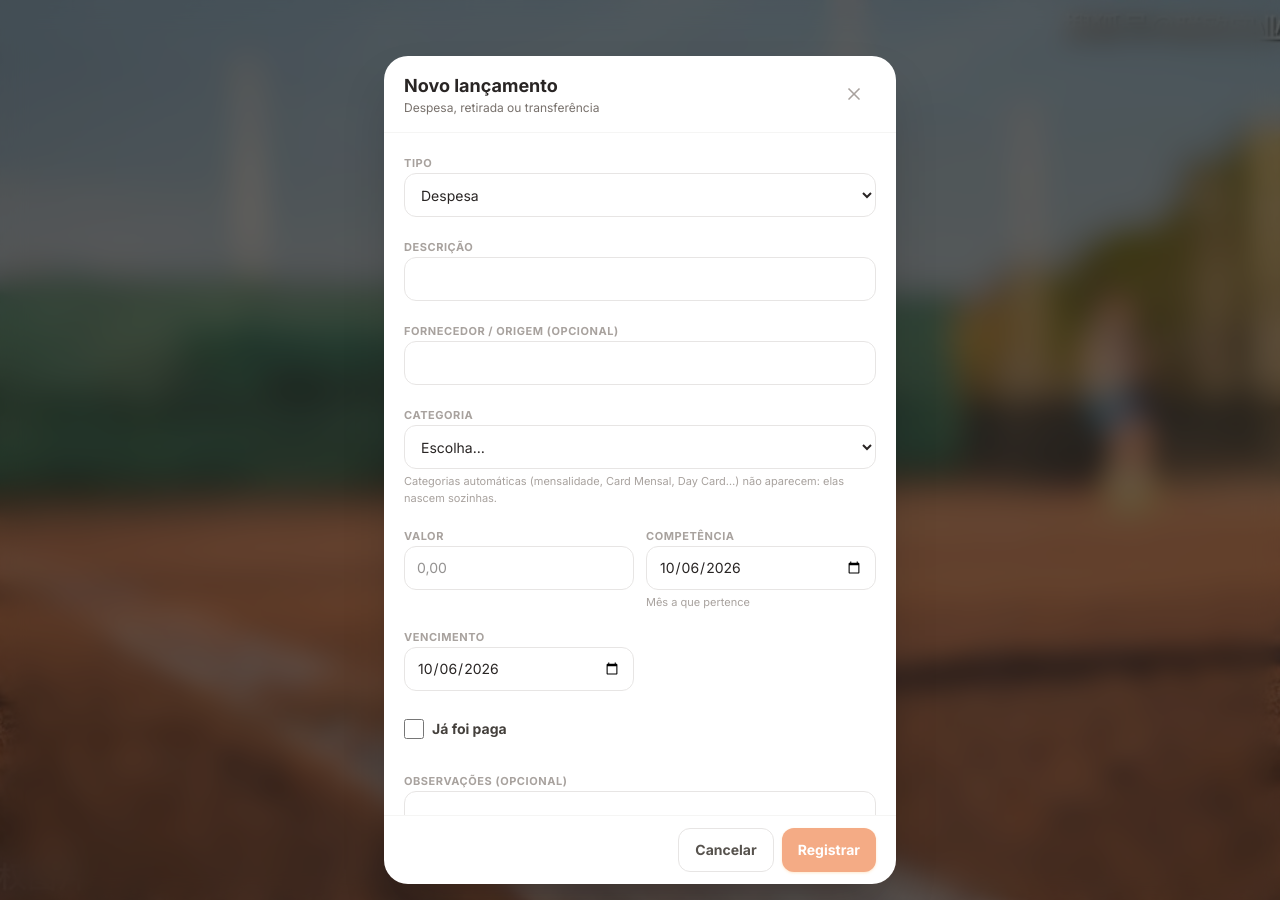
Test case: Novo lançamento › só habilita com descrição de 2+ letras, valor, categoria e vencimento
Type "a" into the field labelled "Descrição".
click(640, 279); type("a")  # box 404,257 -> 876,301
Type "100" into the field labelled "Valor".
click(519, 568); type("100")  # box 404,546 -> 634,590
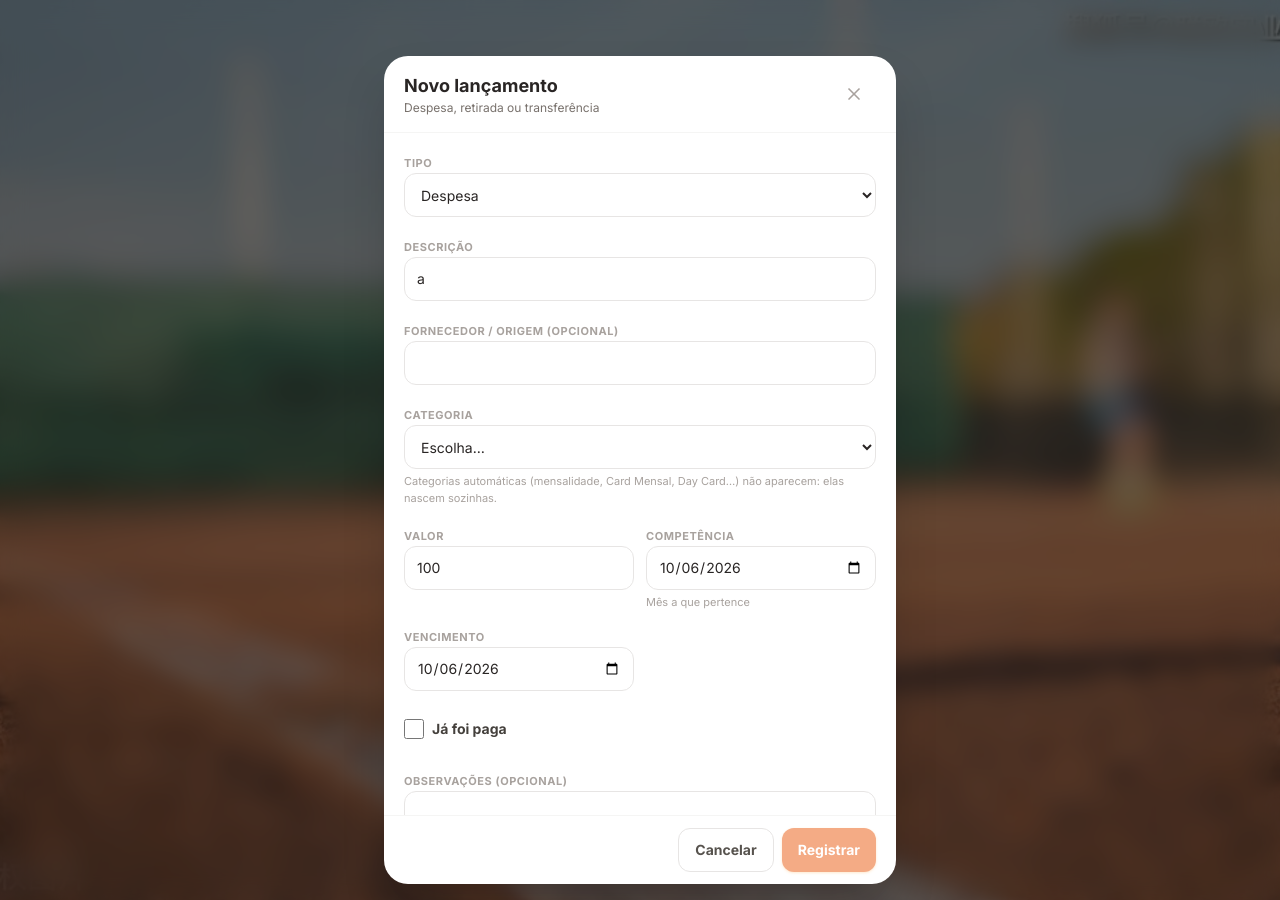
Select "Aluguel" in the dropdown labelled "Categoria" at coordinates (640, 447), box 404,425 -> 876,469
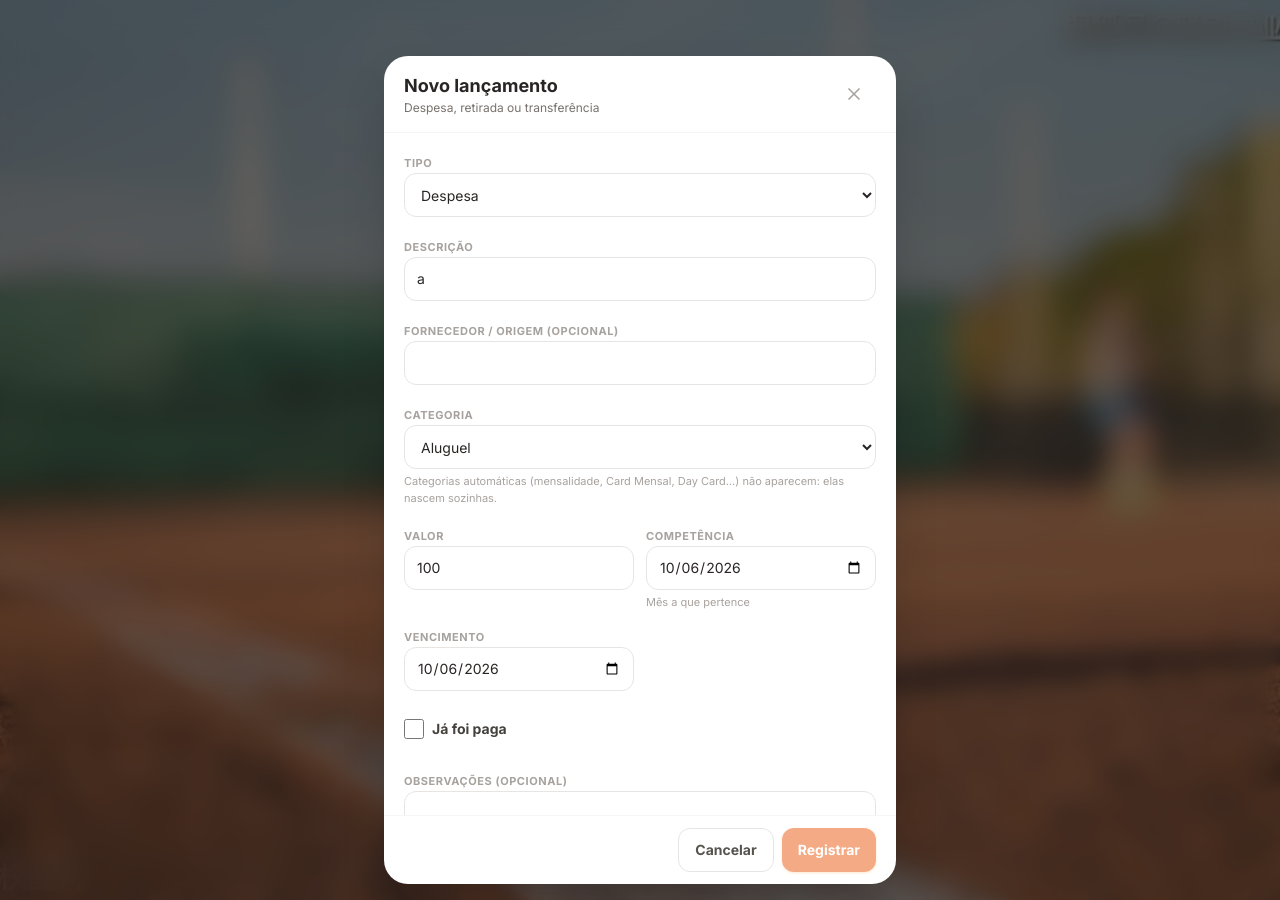
Expected: the button "Registrar" is disabled, 782,828 -> 876,872
Replace the text in the field labelled "Descrição" with "ab" at coordinates (640, 279), box 404,257 -> 876,301
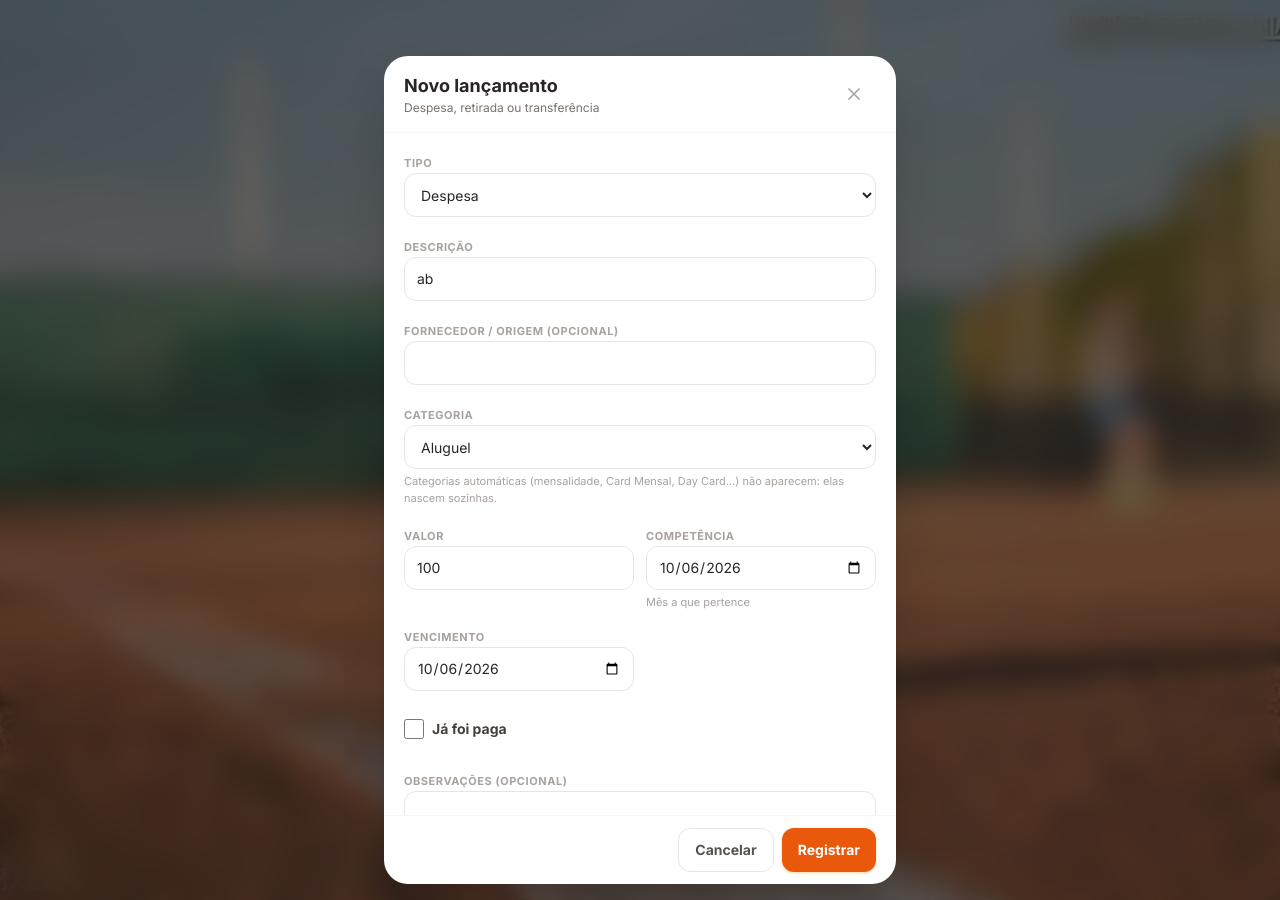
Now the button "Registrar" is enabled, box 782,828 -> 876,872
Clear the date field labelled "Vencimento" at coordinates (519, 668), box 404,646 -> 634,690
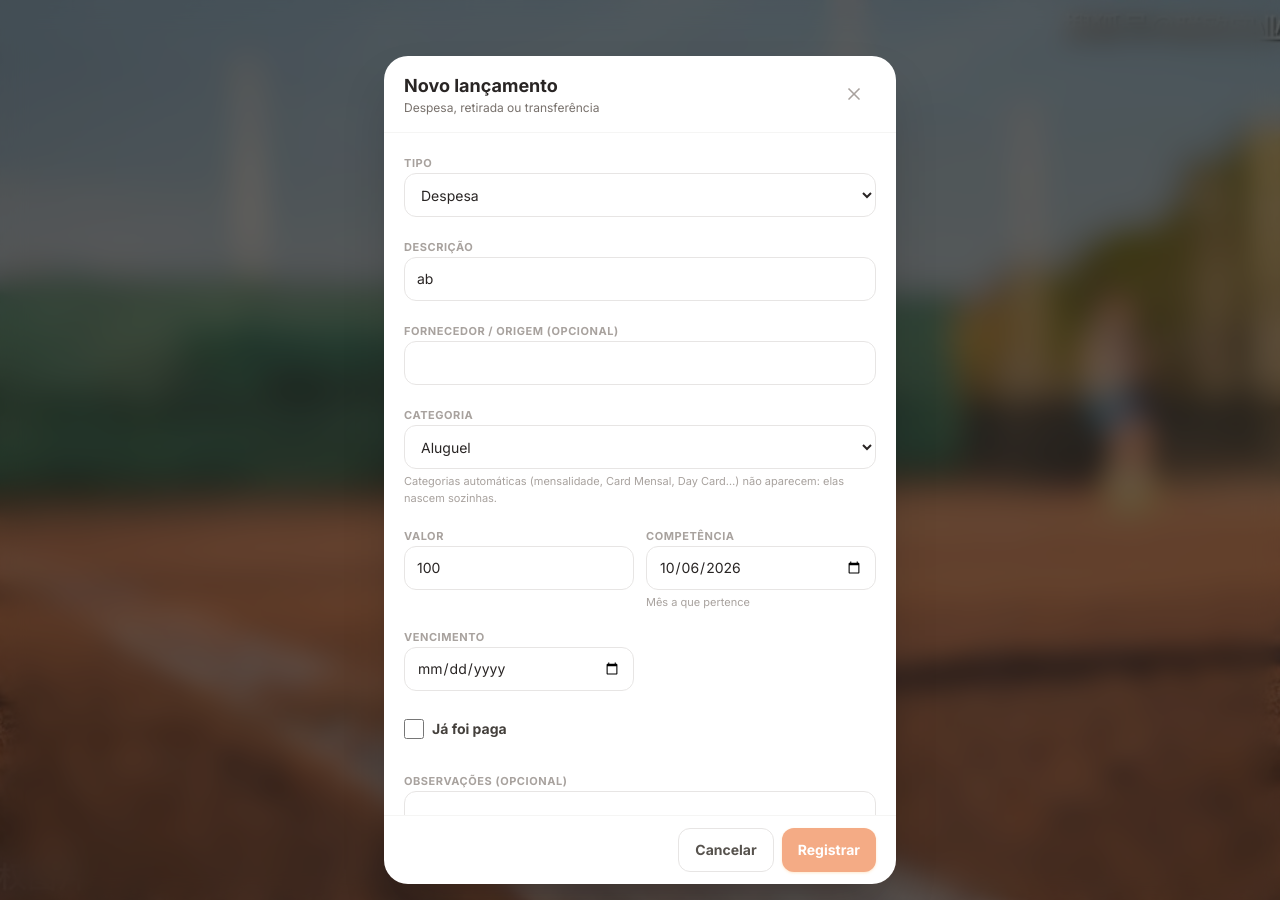
Now the button "Registrar" is disabled, box 782,828 -> 876,872
Type "2026-10-20" into the date field labelled "Vencimento".
click(519, 668); type("2026-10-20")  # box 404,646 -> 634,690
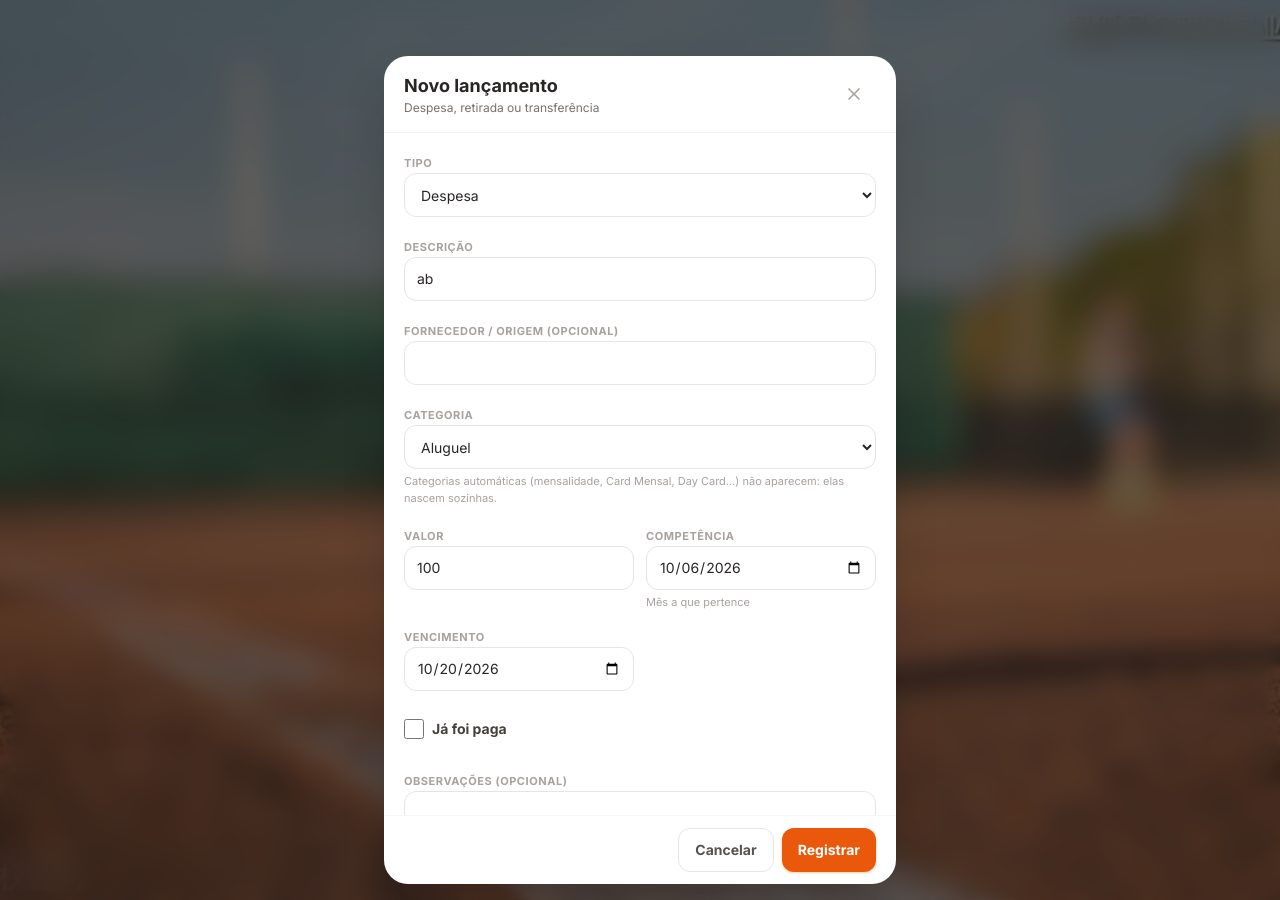
Select "Escolha…" in the dropdown labelled "Categoria" at coordinates (640, 447), box 404,425 -> 876,469
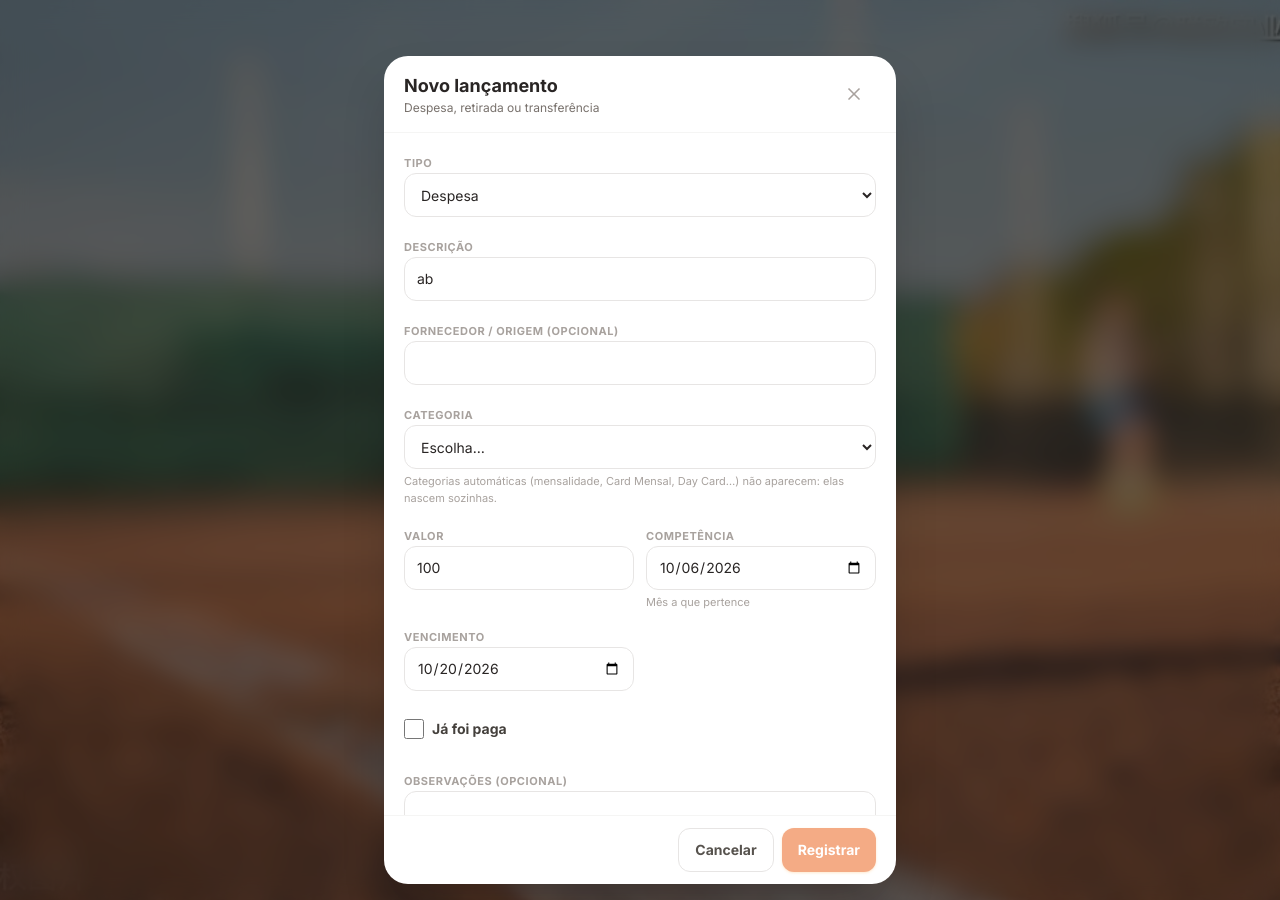
Now the button "Registrar" is disabled, box 782,828 -> 876,872
